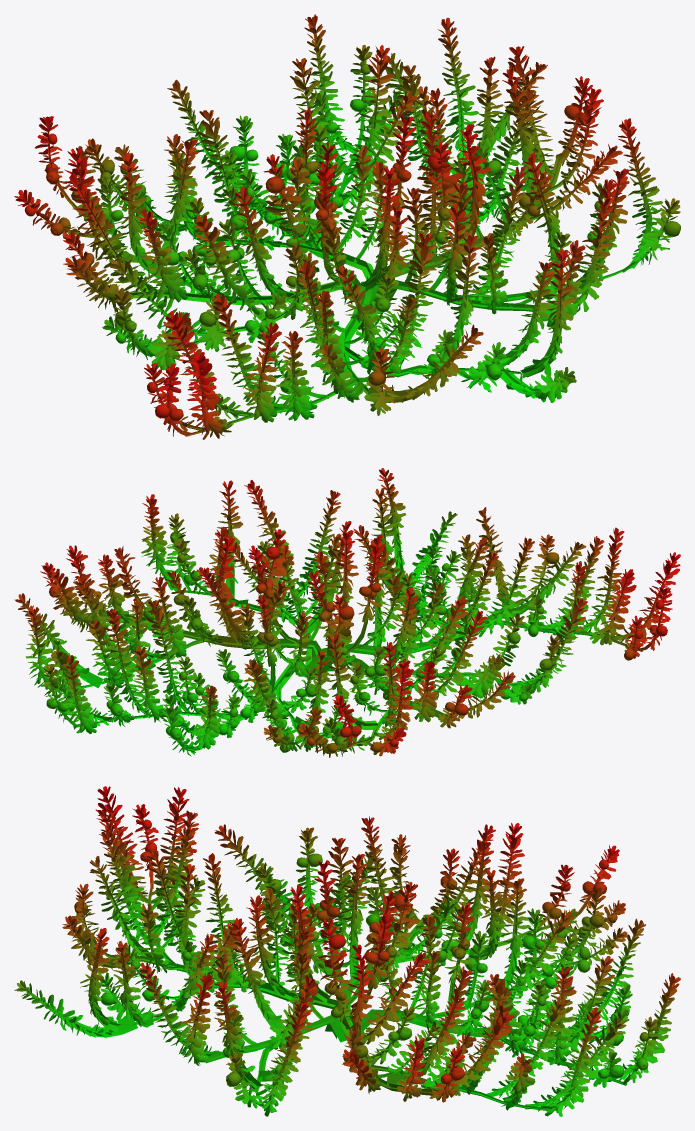
File: Var7_LOD1.fbx
3 renders of one model, top to bottom at view 1: azimuth 30°, elevation 25°; view 2: azimuth 150°, elevation 25°; view 3: azimuth 270°, elevation 25°, orthographic. The views are drawn at different scales.
Visible parts, largest first — view 1: _vgw0_Var7_LOD1; view 2: _vgw0_Var7_LOD1; view 3: _vgw0_Var7_LOD1.
Boxes of the visible parts, x1,y1,x2,y2 form: _vgw0_Var7_LOD1: [14, 14, 680, 439]; _vgw0_Var7_LOD1: [14, 468, 680, 757]; _vgw0_Var7_LOD1: [14, 786, 680, 1116].
Size of the model in its own units: 79.01 by 21.1 by 83.94.
